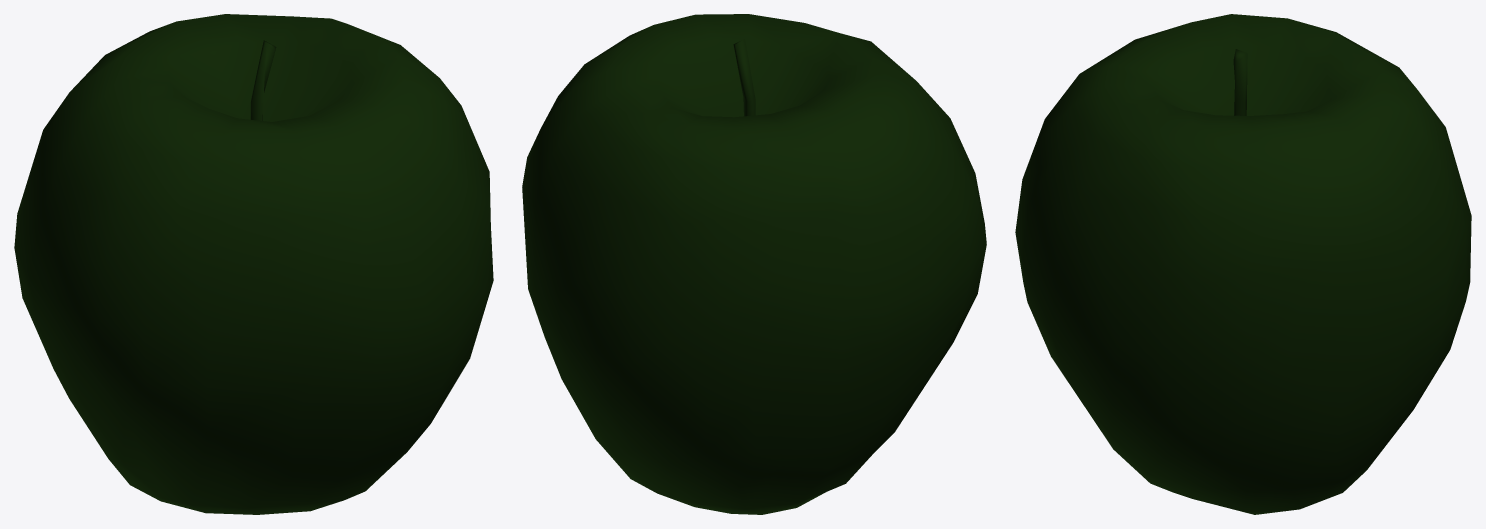
The model's file is Apple_21.obj.
The picture shows the model from 3 angles, left to right: view 1: azimuth 30°, elevation 25°; view 2: azimuth 150°, elevation 25°; view 3: azimuth 270°, elevation 25°; orthographic projection. The views are drawn at different scales.
Bounding box in the file's own units: 0.0855 × 0.0884 × 0.085.
